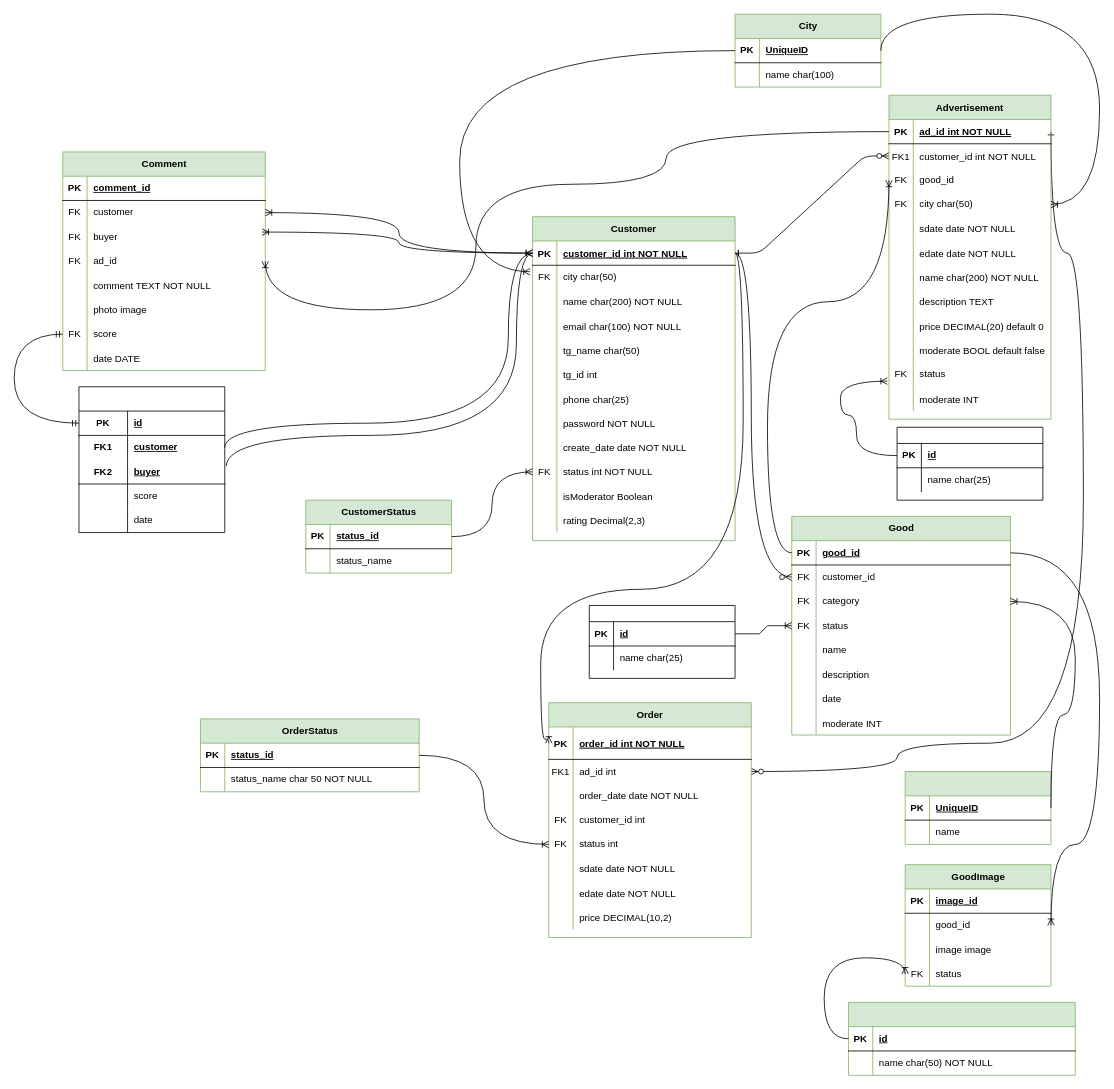
Some shapes in this 1114 by 1089 pixel diagram are drawn without their labels. Here are the shapes that lost their labels. From the top down, the box of each, then its label:
(78, 386, 225, 533): CustomerScore
(896, 426, 1043, 500): AdvertisementStatus
(588, 605, 735, 678): GoodStatus
(904, 771, 1051, 844): GoodCategory
(848, 1002, 1075, 1075): ImageStatus
